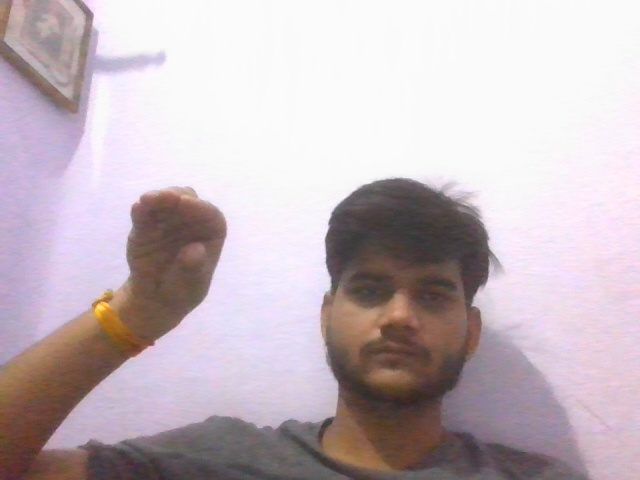sorry: (117, 171, 235, 319)
